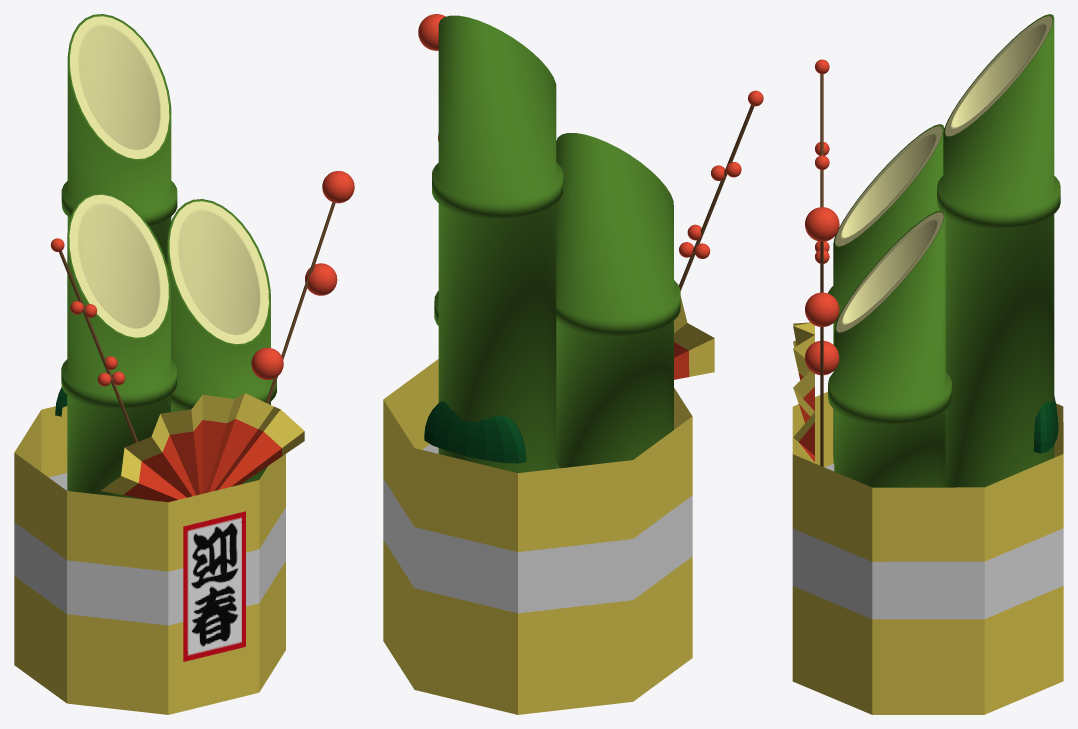
Rendered from kadomatsu.glb.
3 renders of one model, left to right at view 1: azimuth 30°, elevation 25°; view 2: azimuth 150°, elevation 25°; view 3: azimuth 270°, elevation 25°, orthographic. The views are drawn at different scales.
Visible parts, largest first — view 1: 円, 円柱.001, 円柱, 円柱.002, 円.001, 平面, 球, 球.002, 球.001, 円柱.004, 円柱.003; view 2: 円, 円柱, 円柱.001, 球.009, 円.001, 円柱.004, 球; view 3: 円, 円柱, 円柱.002, 円柱.001, 円.001, 球.009, 球, 球.001, 球.002, 円柱.003, 円柱.004.
Boxes of the visible parts, <box> form: 円: <box>14,406,285,714</box>; 円柱.001: <box>61,192,176,499</box>; 円柱: <box>61,14,177,265</box>; 円柱.002: <box>167,199,276,483</box>; 円.001: <box>101,393,304,502</box>; 平面: <box>183,511,245,661</box>; 球: <box>322,171,354,203</box>; 球.002: <box>251,347,283,379</box>; 球.001: <box>305,263,337,295</box>; 円柱.004: <box>59,251,138,442</box>; 円柱.003: <box>241,202,335,484</box>; 円: <box>383,359,692,714</box>; 円柱: <box>432,15,563,472</box>; 円柱.001: <box>556,133,680,468</box>; 球.009: <box>424,401,526,463</box>; 円.001: <box>674,296,714,379</box>; 円柱.004: <box>679,105,754,290</box>; 球: <box>418,14,445,50</box>; 円: <box>792,392,1063,714</box>; 円柱: <box>937,14,1060,487</box>; 円柱.002: <box>828,210,951,487</box>; 円柱.001: <box>828,124,944,464</box>; 円.001: <box>793,322,814,463</box>; 球.009: <box>1033,396,1058,453</box>; 球: <box>805,207,839,241</box>; 球.001: <box>805,292,839,326</box>; 球.002: <box>805,341,839,375</box>; 円柱.003: <box>820,241,823,466</box>; 円柱.004: <box>820,74,823,207</box>.
Size of the model in its own units: 6.68 by 12.71 by 4.88.
Materials: 9 (1 with a texture image).
